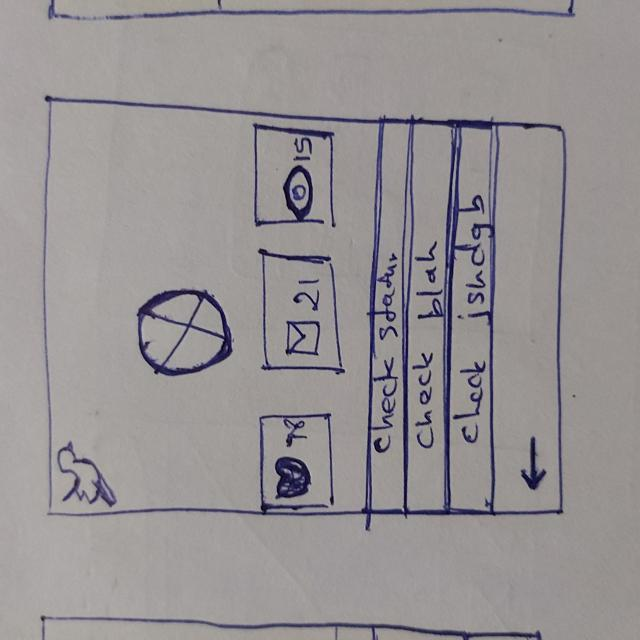BackButton: (517, 435, 548, 496)
Button: (405, 119, 453, 516), (450, 119, 498, 513), (373, 119, 408, 516)
Icon: (54, 443, 122, 507), (278, 164, 318, 224), (271, 457, 318, 501), (283, 317, 325, 355)
Layout: (257, 248, 348, 373), (251, 123, 335, 228), (260, 414, 335, 507)
MainLayout: (40, 87, 569, 522)
RoundedImage: (134, 284, 241, 379)
TextView: (291, 277, 326, 313), (289, 137, 318, 165), (285, 418, 308, 449)
